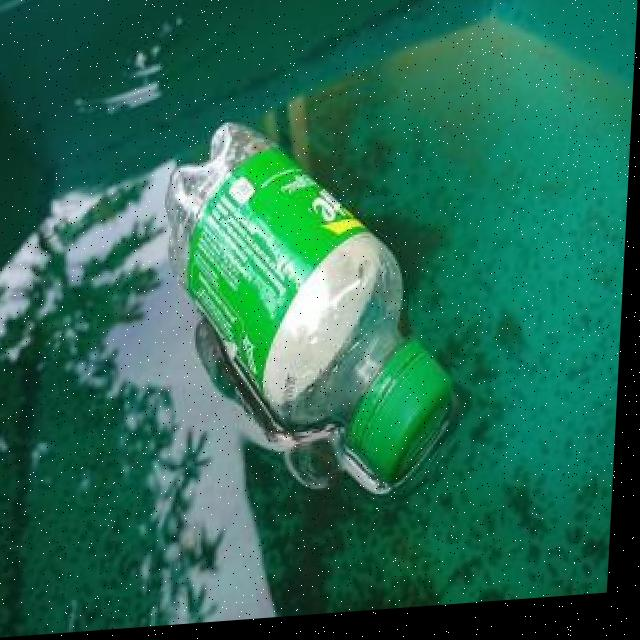bottle: (155, 110, 470, 510)
